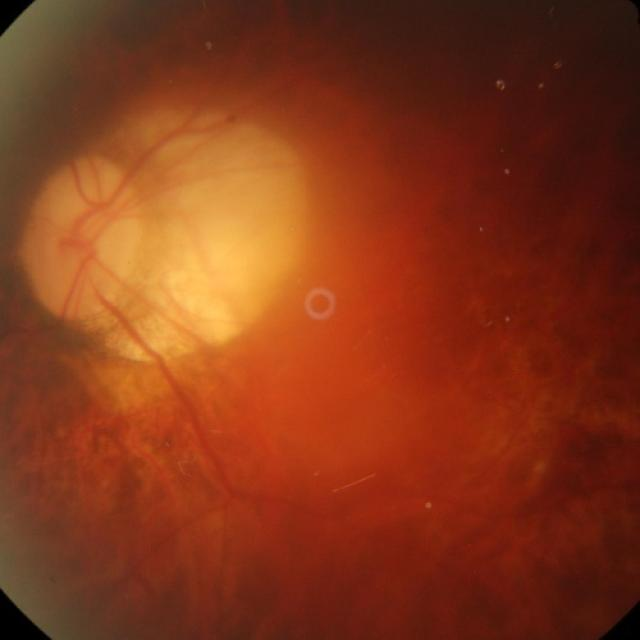OD: (21, 160, 142, 317)
